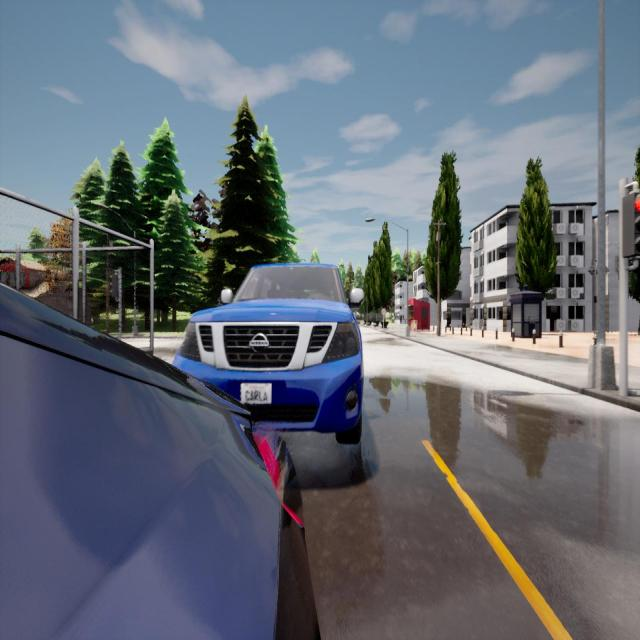Traffic_Signs: (382, 308, 386, 315)
Vehicle: (0, 286, 319, 638), (173, 264, 362, 444)
traffic_light: (623, 194, 640, 258), (112, 274, 118, 296)
